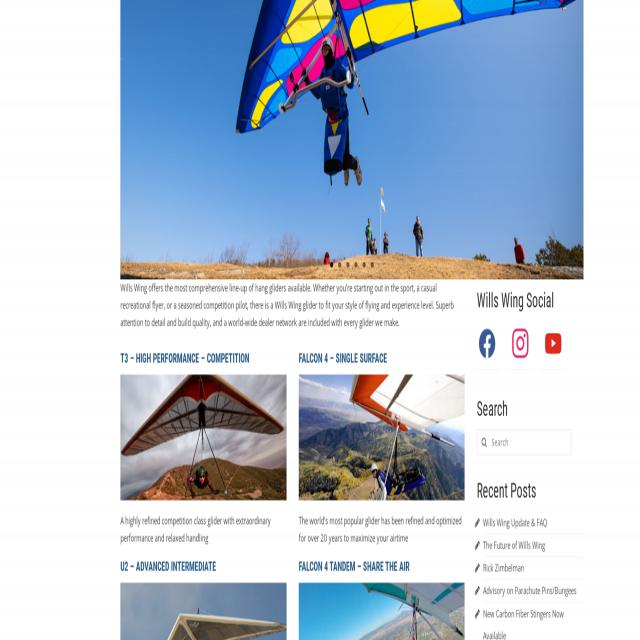button: (120, 374, 286, 500), (299, 374, 465, 500), (121, 582, 287, 640), (298, 582, 464, 640), (542, 329, 564, 359), (478, 329, 495, 359), (512, 328, 529, 357), (477, 430, 489, 455)
field: (477, 430, 571, 455)
